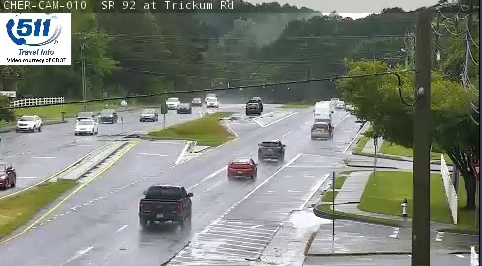car: (139, 185, 191, 222), (228, 159, 257, 177), (258, 140, 283, 160), (311, 121, 333, 140)
van: (313, 102, 332, 120)
